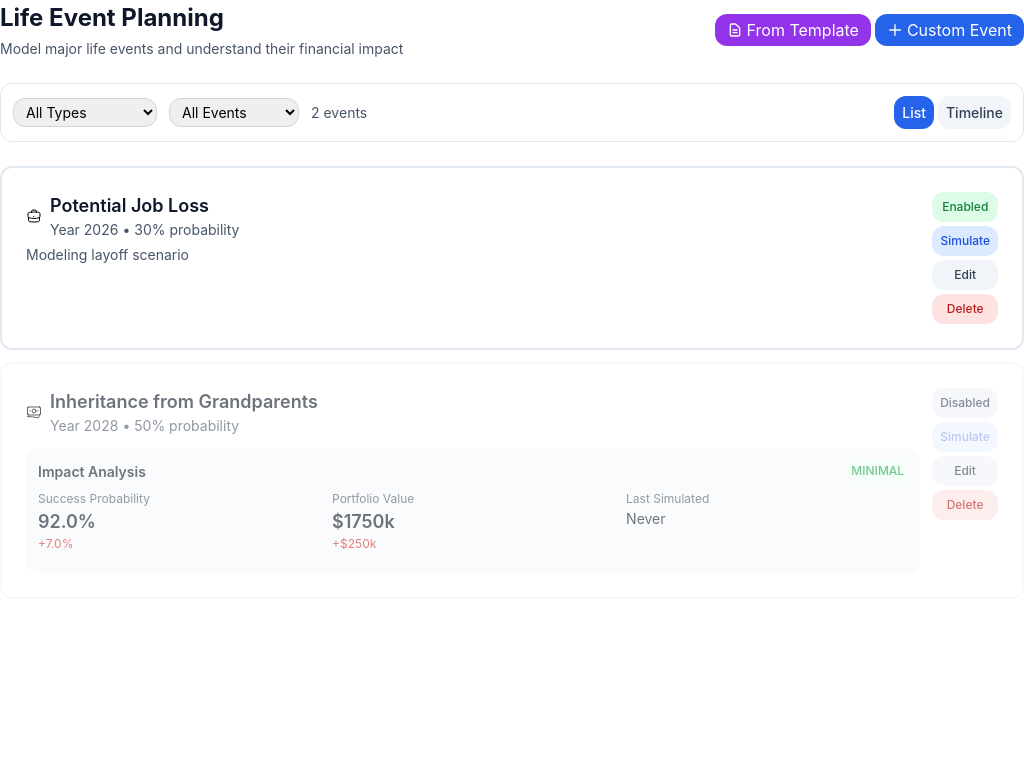
Test: LifeEventManager › Event Management › opens form to create new event
expect the heading "Potential Job Loss" is shown: met, box [50,195,209,216]
Click the button "Custom Event": (949, 30) [875,14,1023,46]
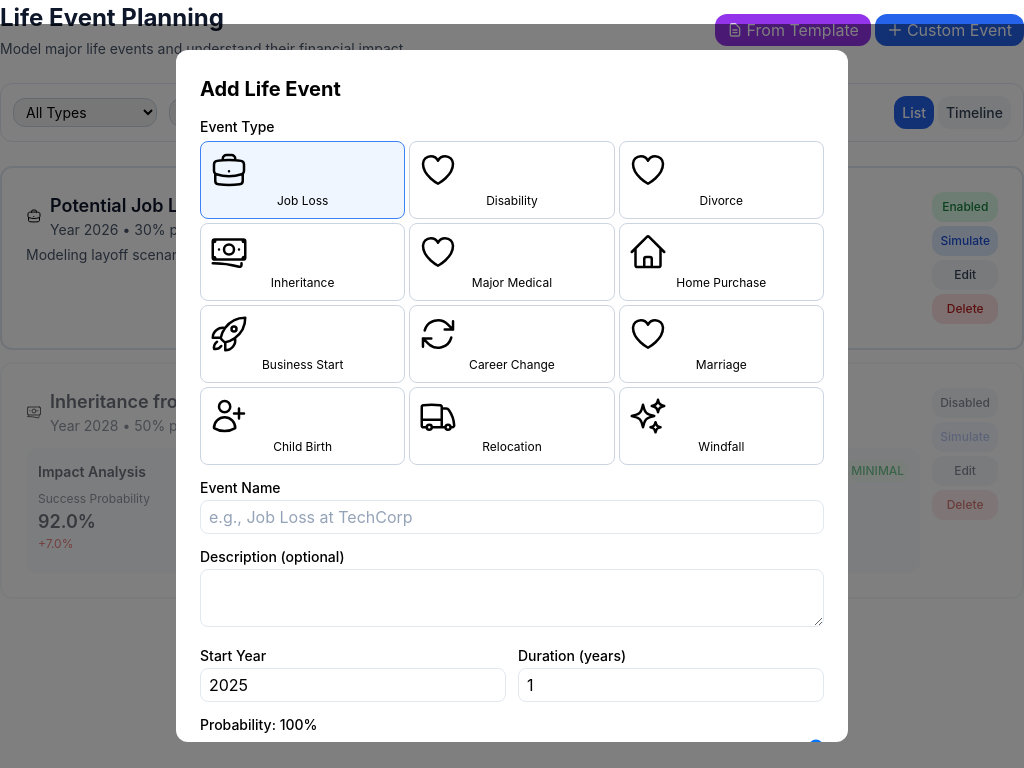
expect the heading "Add Life Event" is shown: met, box [200,77,341,101]
